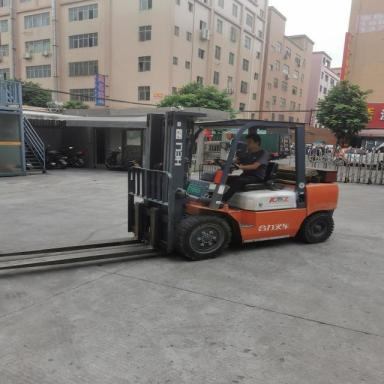forklift: (0, 110, 343, 276)
